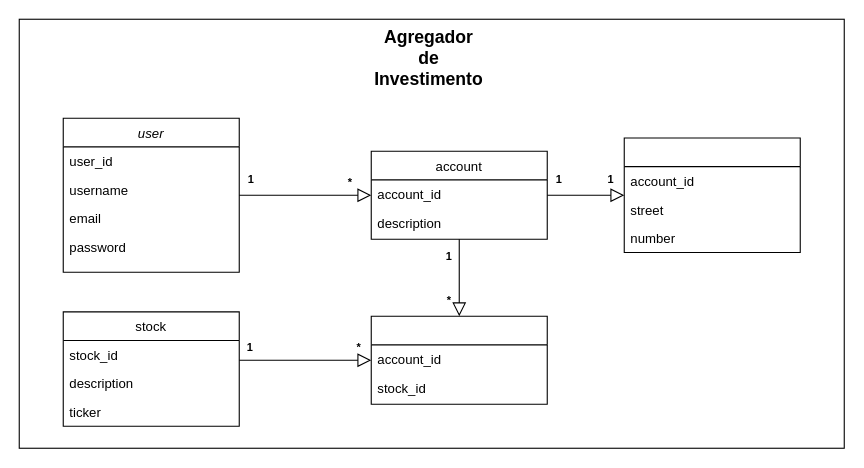
This 864x468 diagram has some shape labels left out. Here are the shapes that lost their labels. From the top down, the box of each, then its label:
(623, 137, 800, 252): billing address
(370, 315, 547, 404): account_stock
